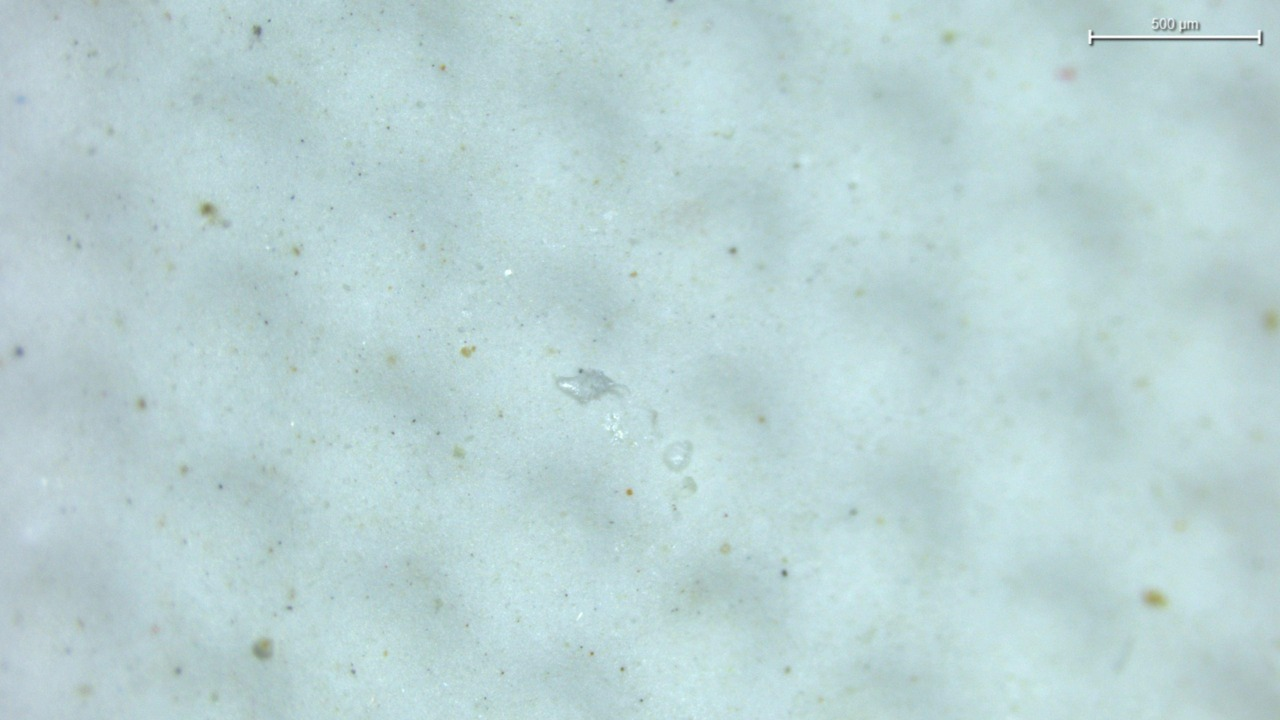microplastic_fragment: (557, 369, 627, 403)
